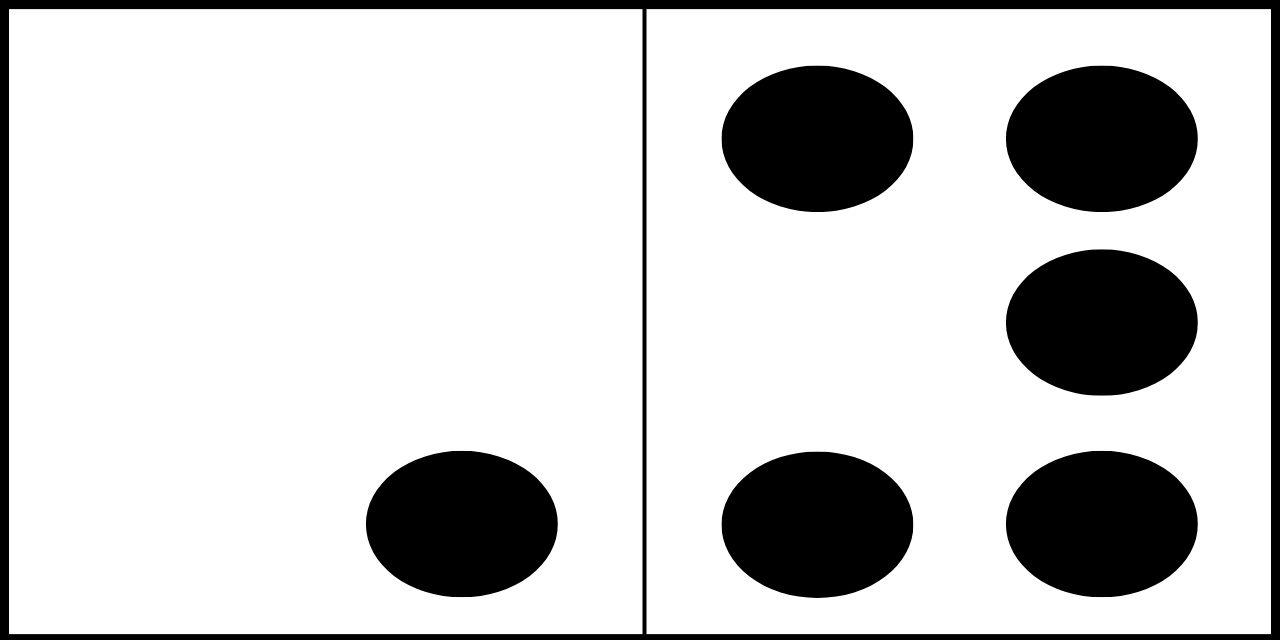Y: (722, 63, 1199, 600)
capital: (103, 63, 560, 598)
